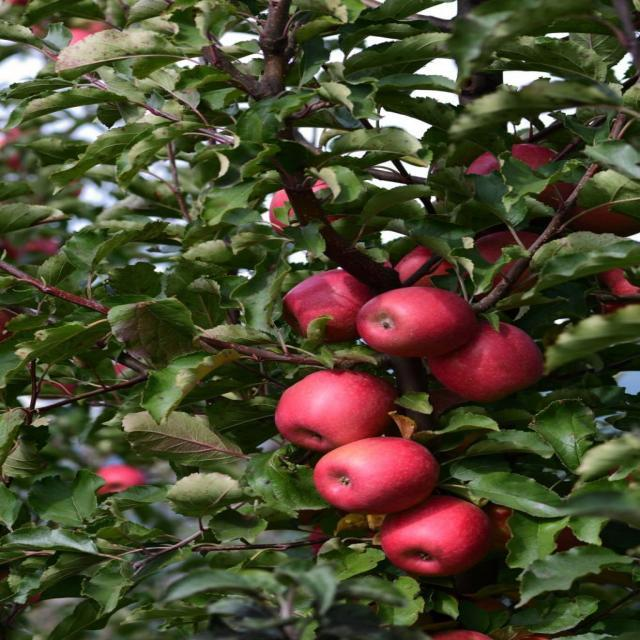Red Apple: (319, 436, 451, 516), (275, 374, 397, 455), (429, 320, 540, 400), (381, 499, 496, 574), (361, 287, 471, 357), (283, 272, 389, 338), (386, 243, 482, 296), (270, 184, 371, 234), (471, 147, 568, 196), (575, 179, 639, 234), (467, 231, 536, 281), (601, 265, 640, 311), (66, 22, 106, 60), (96, 467, 143, 497), (19, 238, 58, 263), (1, 128, 25, 165), (437, 624, 489, 640), (50, 378, 72, 402), (8, 1, 35, 18), (1, 305, 15, 337)
